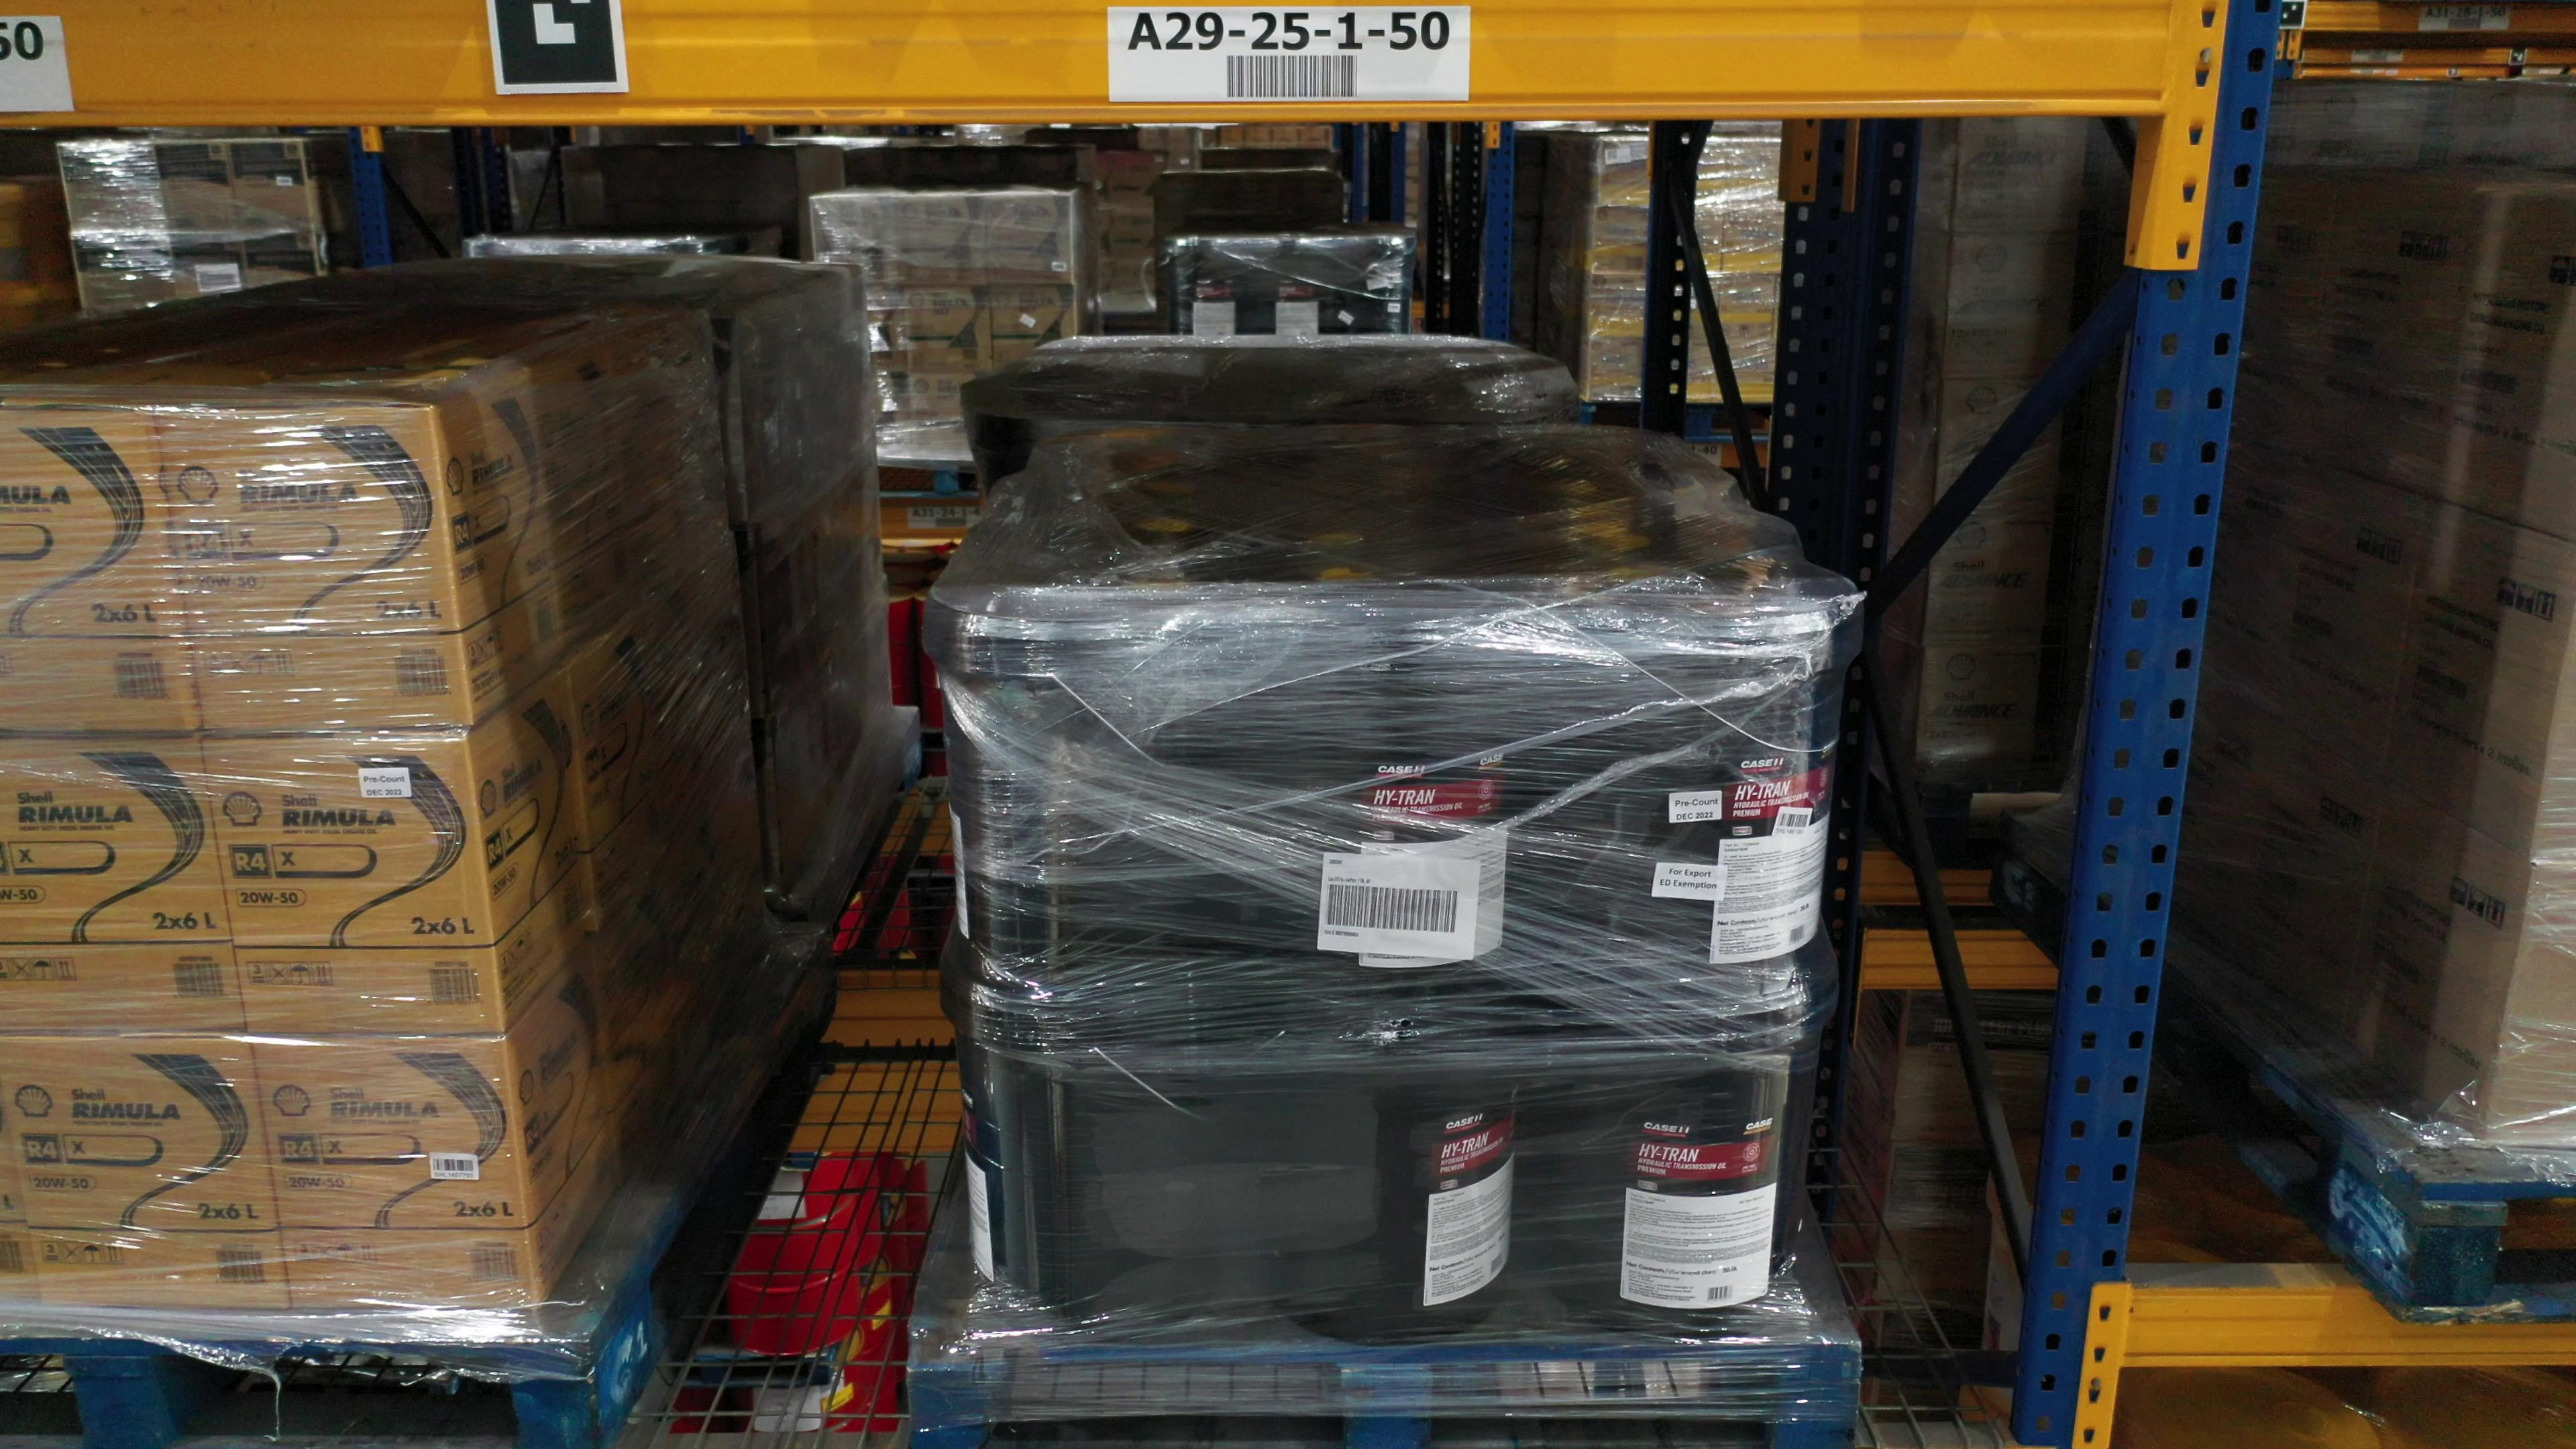-: (1557, 586, 1875, 985), (939, 952, 1238, 1345), (925, 587, 1221, 984), (1254, 579, 1534, 993), (1541, 957, 1836, 1348), (1253, 968, 1532, 1350), (154, 409, 474, 731), (198, 734, 501, 1035), (248, 1035, 541, 1315), (0, 1037, 295, 1313), (0, 731, 246, 1033), (0, 407, 196, 738)
